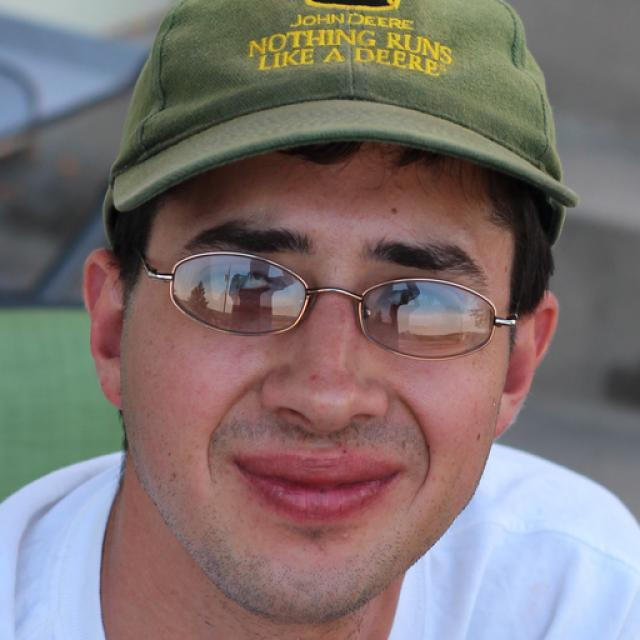disgust: (118, 132, 514, 626)
